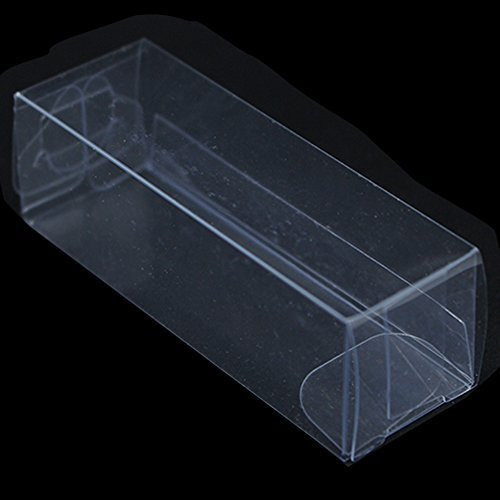PlasticBox: (8, 34, 491, 470)
